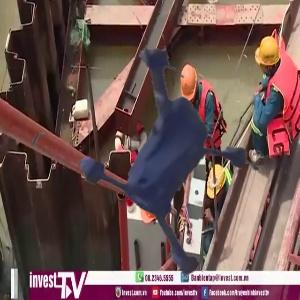drone: (26, 6, 277, 257)
